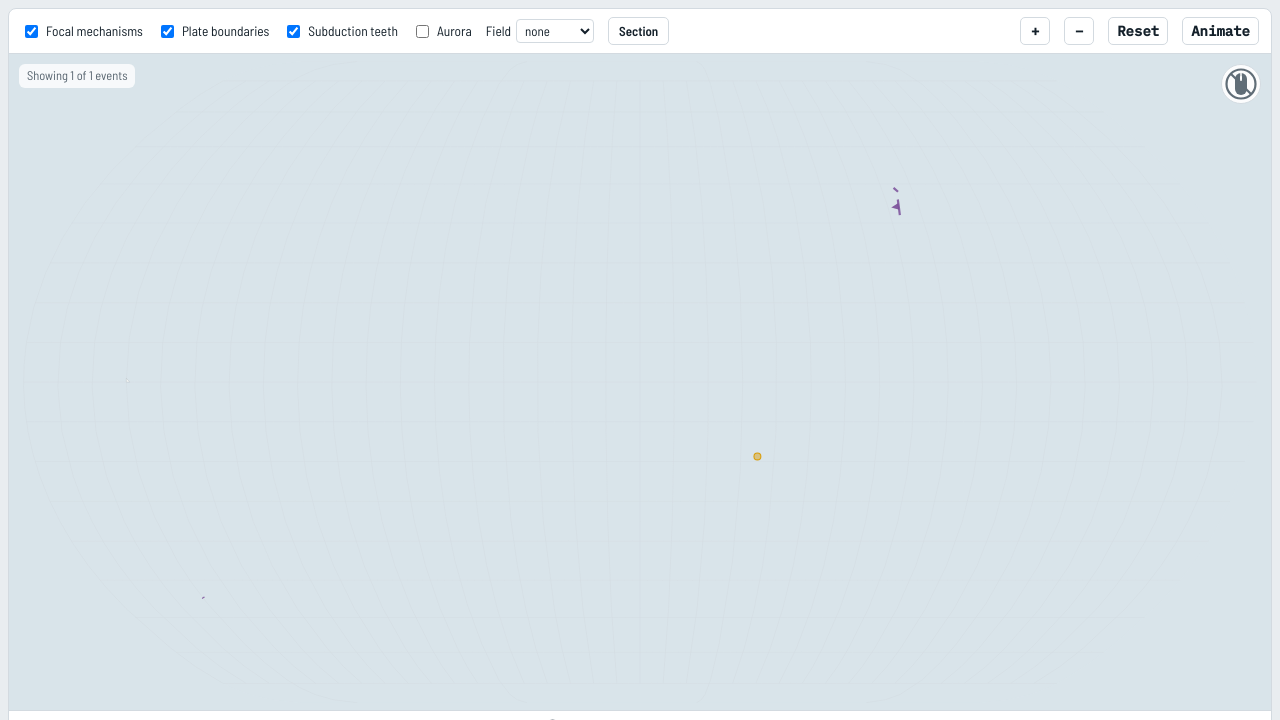
Test case: QuakeMap › opens the animation over a date range when one is set
The image size is (1280, 720).
Click the button with class "zbtn" showing "Animate" at (1221, 31), box [1182,17,1259,45]
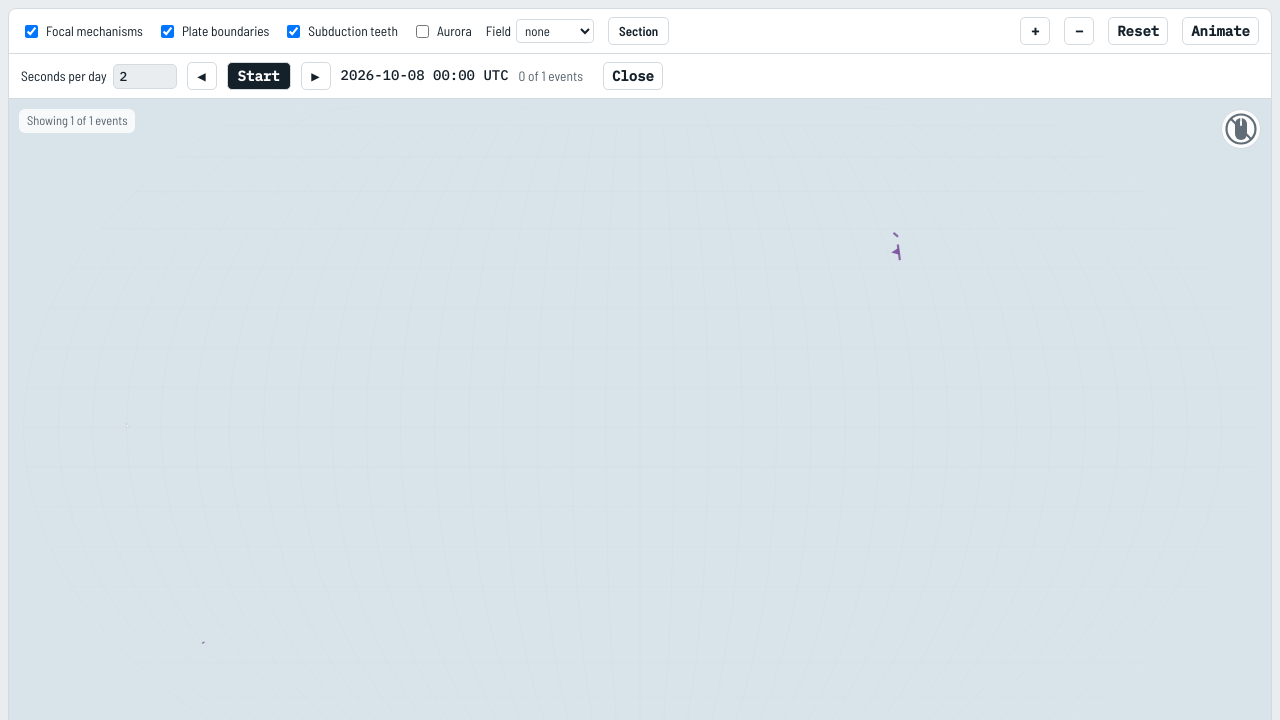
Expected: the text with class "mapcount" reads "Showing 1 of 1 events", [27,112,128,128]
Now the text with class "animclock" reads "2026-10-08 00:00 UTC", box [341,66,509,84]
